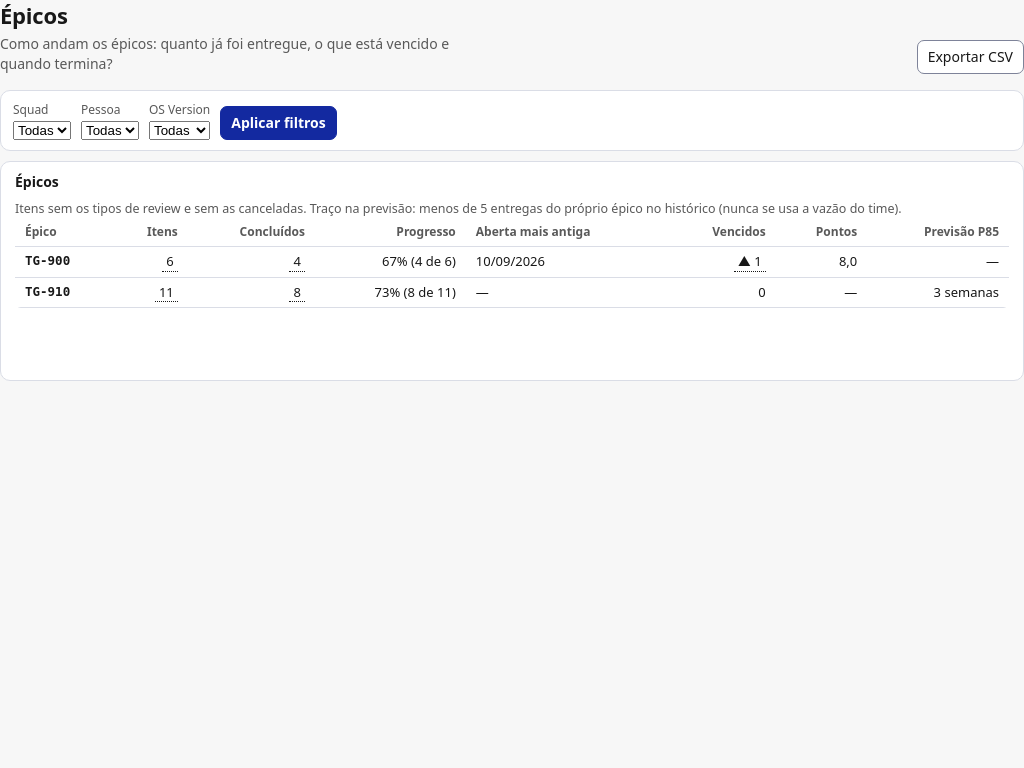
Test: tela Épicos › contagemAbreGavetaDoEpico
Click the button named "TG-900 Itens: 6" at (170,262), box [162,252,178,272]
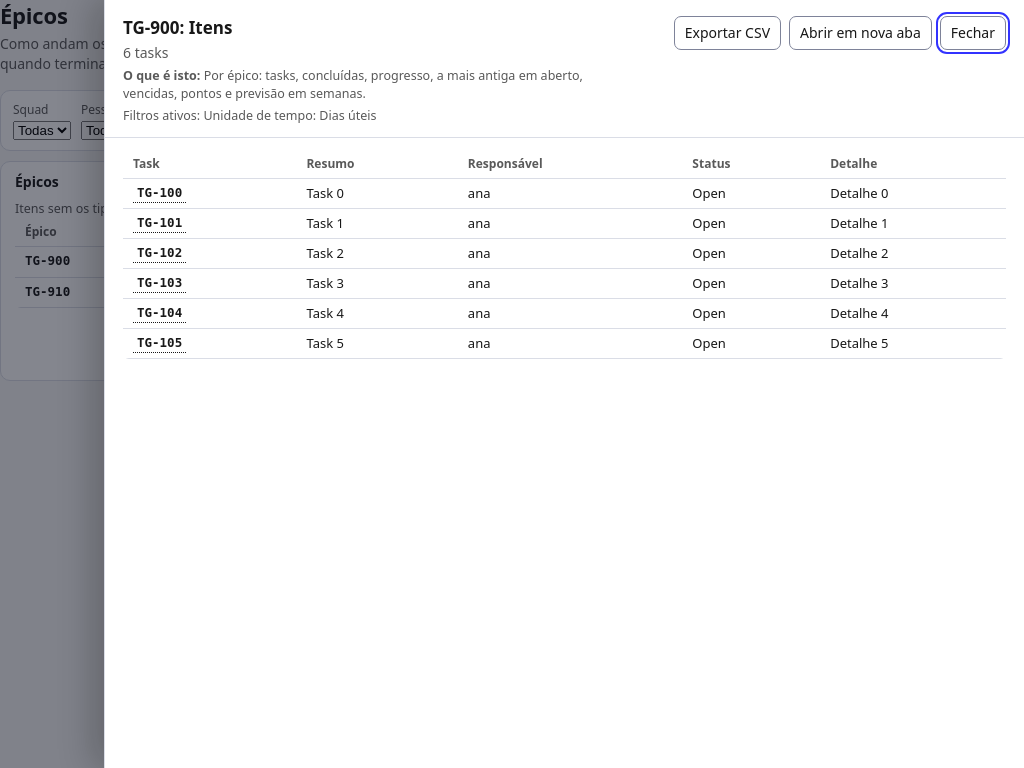
Now the text "6 tasks" is shown, box [123,43,168,62]
